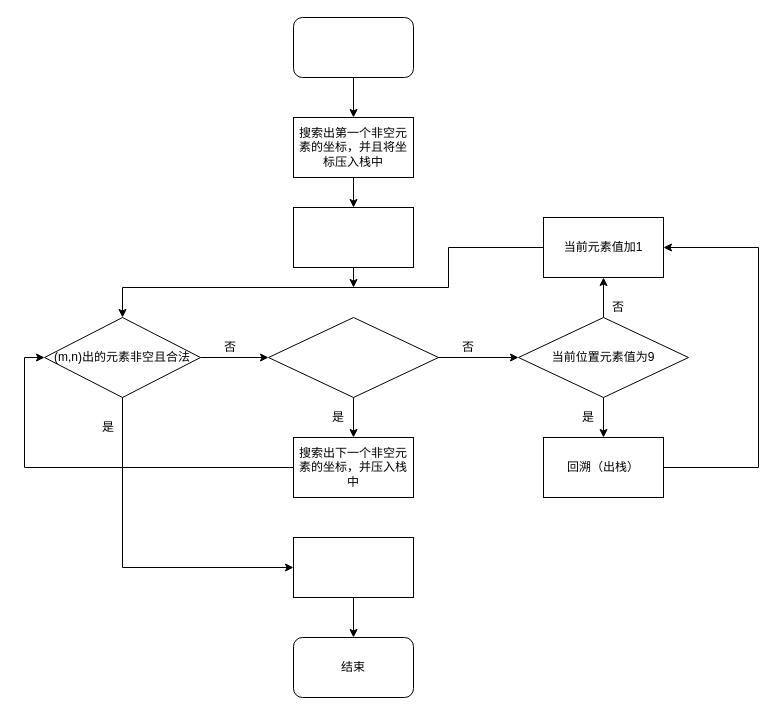
This 784x715 diagram has some shape labels left out. Here are the shapes that lost their labels. From the top down, the box of each, then its label:
(292, 16, 414, 78): 开始
(292, 206, 414, 268): 搜索出最后一个非空元素的坐标(m,n)
(268, 316, 438, 398): 当前位置元素非空且合法
(292, 536, 414, 598): 输出结果
